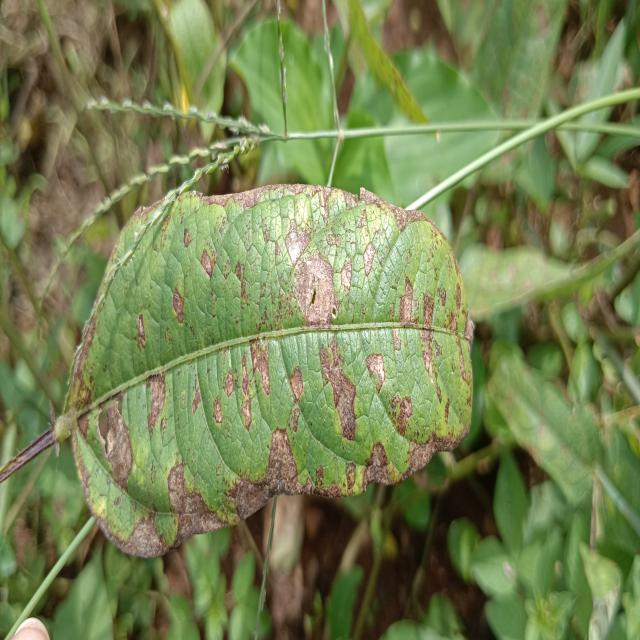Black gram_leaf spot: (65, 188, 476, 546)
